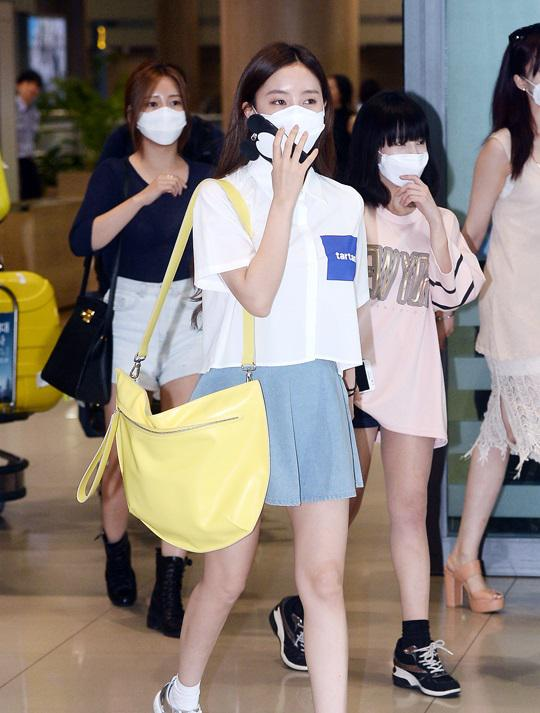OK: (251, 83, 329, 161), (371, 124, 438, 191), (133, 83, 193, 143)
